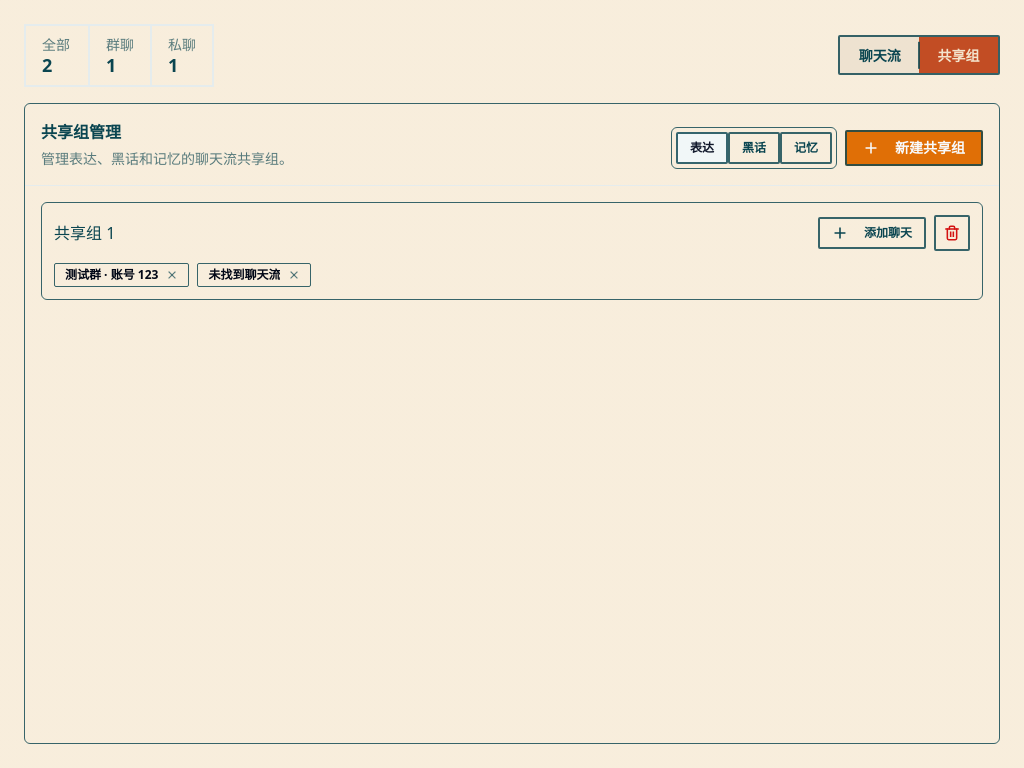
Test case: ChatManagementPage 共享组管理 › 添加聊天弹窗：过滤已在组内的聊天流，支持搜索与勾选加入
This screenshot has width=1024, height=768.
Check: the heading "共享组管理" is shown, box x1=41 y1=121 x2=121 y2=143
Check: the text "共享组 1" is shown, box x1=54 y1=221 x2=115 y2=245
Click the button "添加聊天" at point(872, 233), box x1=818 y1=217 x2=926 y2=249
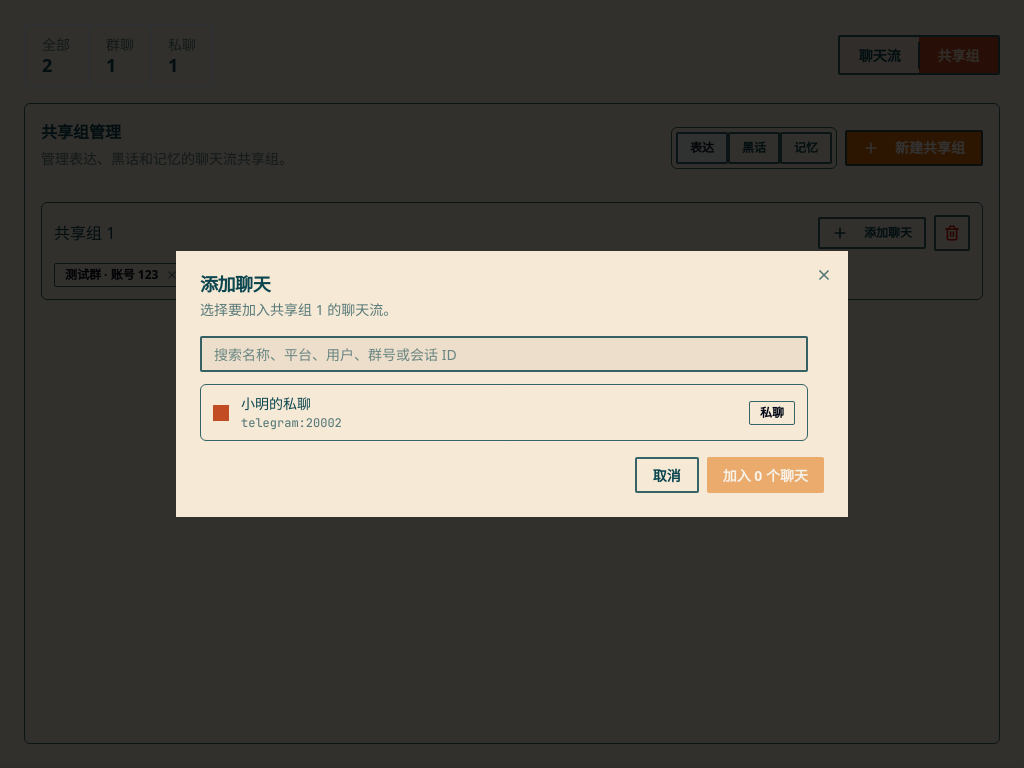
// 搜索无匹配时显示空态
Type "不存在的关键词" into the field with placeholder "搜索名称、平台、用户、群号或会话 ID" at point(504, 354), box x1=200 y1=336 x2=808 y2=372
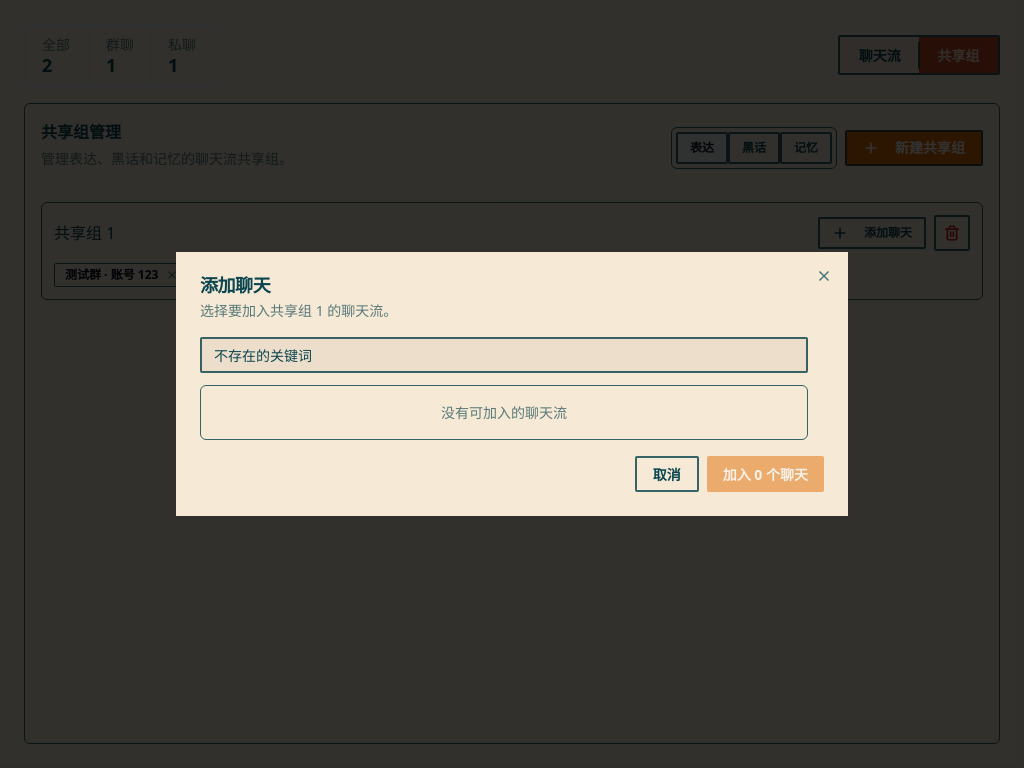
Check: the text "没有可加入的聊天流" is shown, box x1=441 y1=403 x2=567 y2=422
Clear the field at point(504, 355), box x1=200 y1=337 x2=808 y2=373
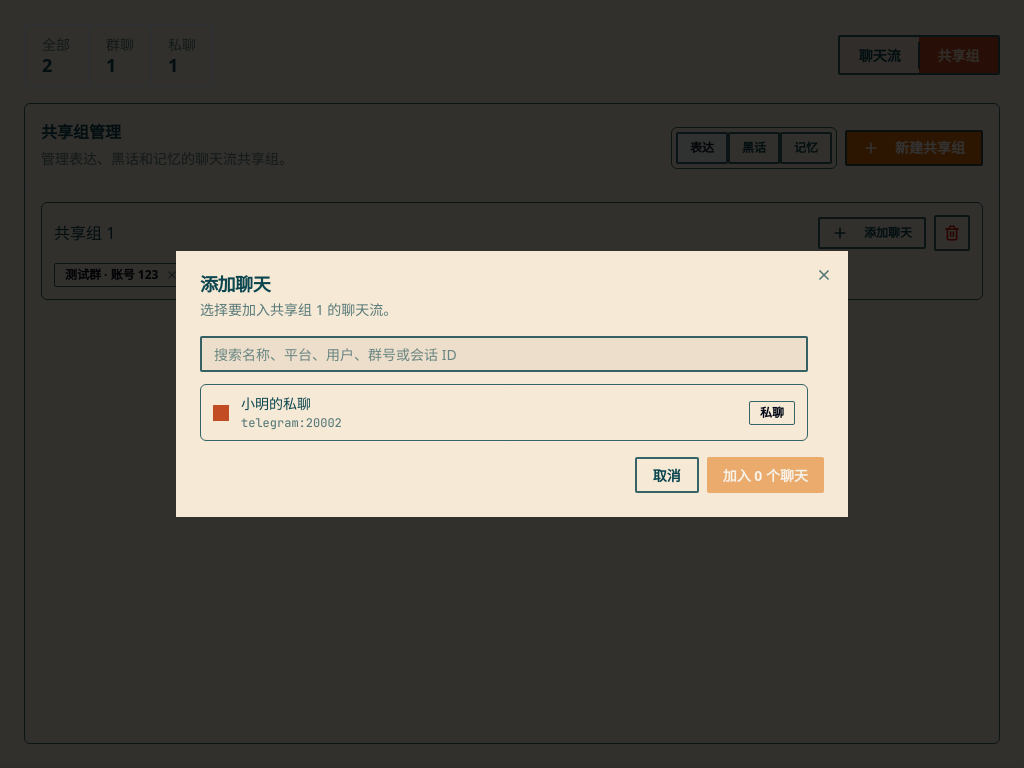
Click the checkbox named "选择 小明的私聊" at point(221, 412), box x1=213 y1=404 x2=229 y2=420
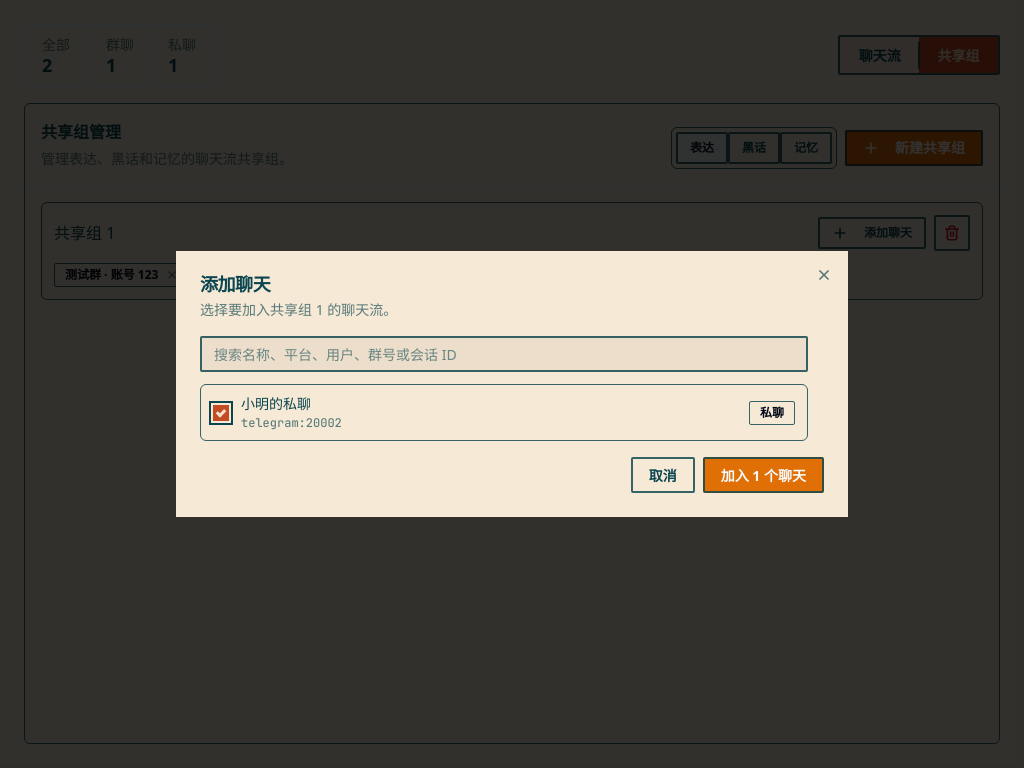
Click the button "加入 1 个聊天" at point(763, 475), box x1=703 y1=457 x2=824 y2=493
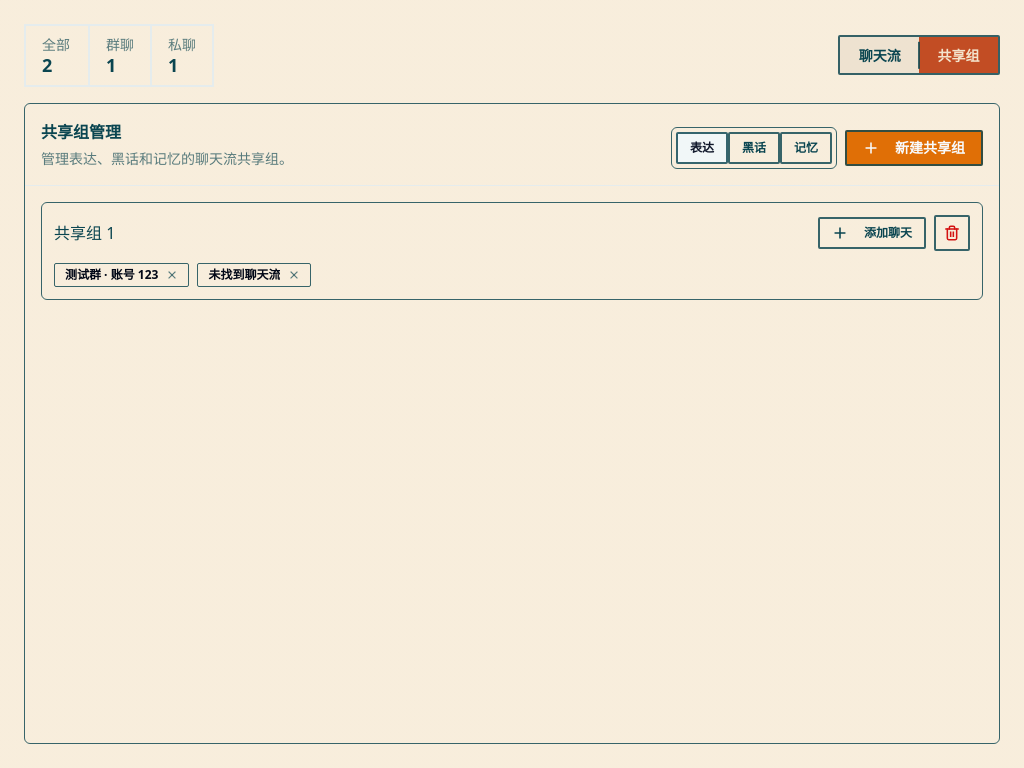
Check: the dialog is gone
